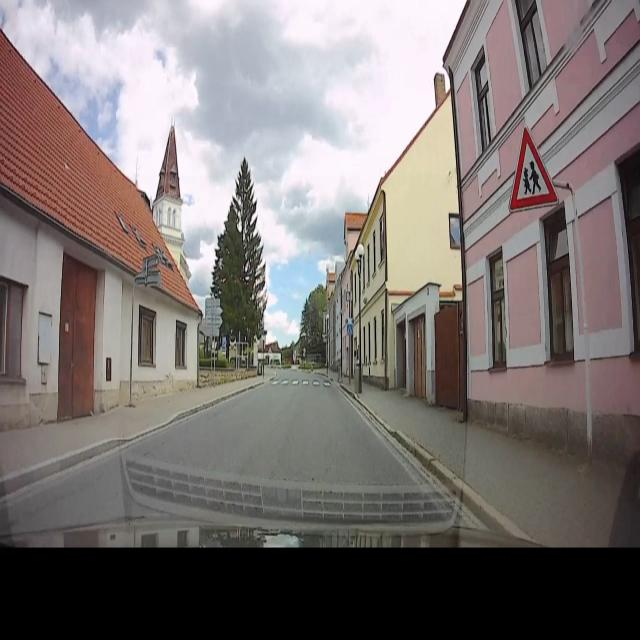Pedestrian crosswalk: (267, 378, 335, 387), (346, 315, 356, 338)
